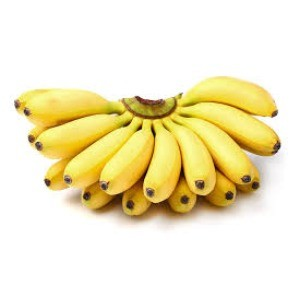banana_brain food: (65, 97, 242, 205)
